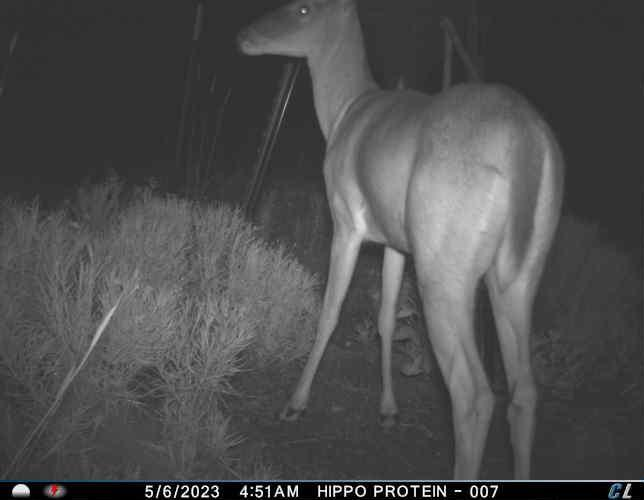Deer: (235, 0, 566, 481)
